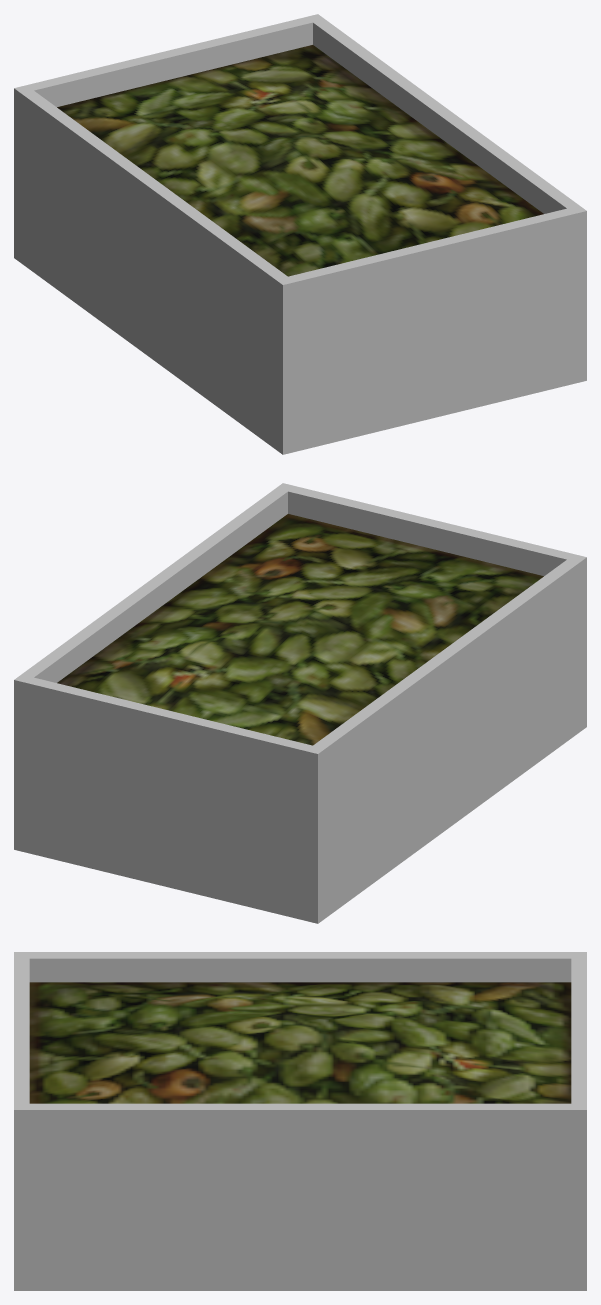
File: Crate03_c.FBX
3 renders of one model, top to bottom at view 1: azimuth 30°, elevation 25°; view 2: azimuth 150°, elevation 25°; view 3: azimuth 270°, elevation 25°, orthographic. The views are drawn at different scales.
Parts seen in each view (by area): view 1: Crate03_c; view 2: Crate03_c; view 3: Crate03_c.
Part boxes in pixels (<box>): Crate03_c: <box>14,14,586,454</box>; Crate03_c: <box>14,483,586,923</box>; Crate03_c: <box>14,952,586,1290</box>.
Bounding box in the file's own units: 51.75 × 28.25 × 79.29.
